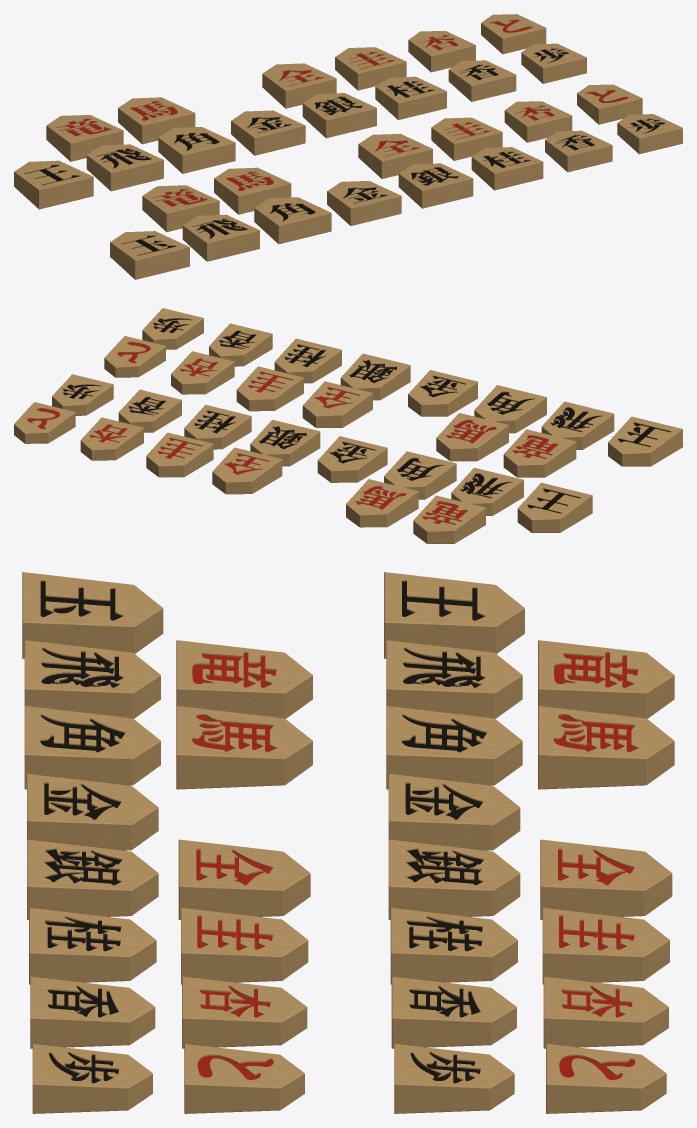
File: hori.glb
The picture shows the model from 3 angles, top to bottom: view 1: azimuth 30°, elevation 25°; view 2: azimuth 150°, elevation 25°; view 3: azimuth 270°, elevation 25°; orthographic projection. The views are drawn at different scales.
Visible parts, largest first — view 1: Carved boxwood 王, Carved boxwood 玉, Carved boxwood 角.001, Carved boxwood 角, Carved boxwood 飛, Carved boxwood 飛.001, Carved boxwood 金.001, Carved boxwood 金, Carved boxwood 銀, Carved boxwood 銀.001, Carved boxwood 馬.001, Carved boxwood 竜.001 (+16 smaller); view 2: Carved boxwood 王, Carved boxwood 玉, Carved boxwood 竜, Carved boxwood 馬, Carved boxwood 馬.001, Carved boxwood 竜.001, Carved boxwood 全.001, Carved boxwood 全, Carved boxwood 金.001, Carved boxwood 金, Carved boxwood 圭.001, Carved boxwood 圭 (+26 smaller); view 3: Carved boxwood 馬, Carved boxwood 馬.001, Carved boxwood 王, Carved boxwood 玉, Carved boxwood 角, Carved boxwood 角.001, Carved boxwood 全, Carved boxwood 全.001, Carved boxwood 銀.001, Carved boxwood 飛, Carved boxwood 飛.001, Carved boxwood 金.001 (+42 smaller).
Boxes of the visible parts, box(x1,y1,x2,y2) form: Carved boxwood 王: box(14, 160, 93, 209); Carved boxwood 玉: box(110, 231, 189, 279); Carved boxwood 角.001: box(158, 127, 235, 173); Carved boxwood 角: box(254, 197, 331, 244); Carved boxwood 飛: box(182, 214, 259, 261); Carved boxwood 飛.001: box(86, 144, 163, 191); Carved boxwood 金.001: box(231, 110, 305, 155); Carved boxwood 金: box(327, 181, 401, 225); Carved boxwood 銀: box(398, 163, 473, 208); Carved boxwood 銀.001: box(302, 93, 376, 138); Carved boxwood 馬.001: box(118, 97, 195, 144); Carved boxwood 竜.001: box(46, 115, 123, 161); Carved boxwood 王: box(517, 482, 592, 532); Carved boxwood 玉: box(608, 416, 682, 466); Carved boxwood 竜: box(503, 429, 576, 477); Carved boxwood 馬: box(436, 413, 508, 461); Carved boxwood 馬.001: box(346, 479, 418, 527); Carved boxwood 竜.001: box(413, 495, 485, 543); Carved boxwood 全.001: box(212, 447, 282, 494); Carved boxwood 全: box(302, 381, 372, 427); Carved boxwood 金.001: box(317, 436, 387, 482); Carved boxwood 金: box(408, 370, 477, 416); Carved boxwood 圭.001: box(146, 432, 213, 477); Carved boxwood 圭: box(236, 366, 303, 411); Carved boxwood 馬: box(176, 706, 312, 789); Carved boxwood 馬.001: box(538, 706, 674, 789); Carved boxwood 王: box(384, 572, 524, 658); Carved boxwood 玉: box(22, 572, 163, 658); Carved boxwood 角: box(24, 706, 160, 789); Carved boxwood 角.001: box(386, 706, 522, 789); Carved boxwood 全: box(178, 839, 310, 919); Carved boxwood 全.001: box(540, 839, 672, 919); Carved boxwood 銀.001: box(388, 839, 520, 919); Carved boxwood 飛: box(24, 640, 160, 718); Carved boxwood 飛.001: box(386, 640, 522, 718); Carved boxwood 金.001: box(388, 774, 520, 850).
Size of the model in its own units: 0.3307 by 0.0113 by 0.1803.
Materials: 4 (2 with a texture image).
